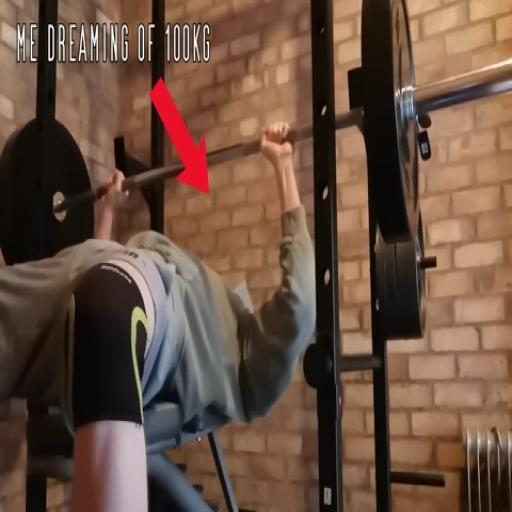exercise: (0, 118, 318, 511)
